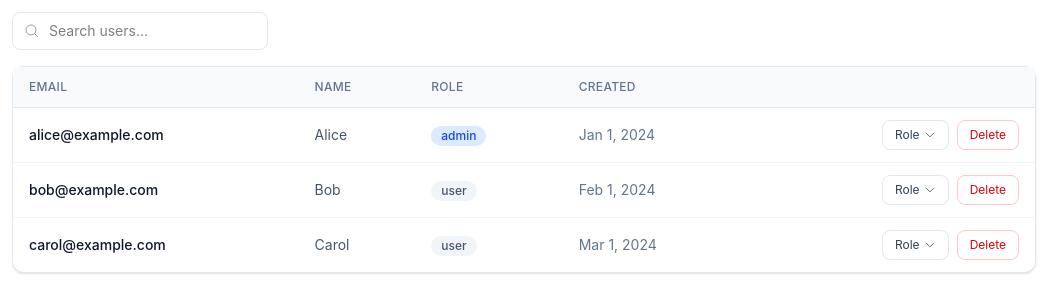
Test: UsersView › search filters users by email
Type "alice" into the search field with placeholder "Search users...".
click(140, 31); type("alice")  # box [12,12,268,50]
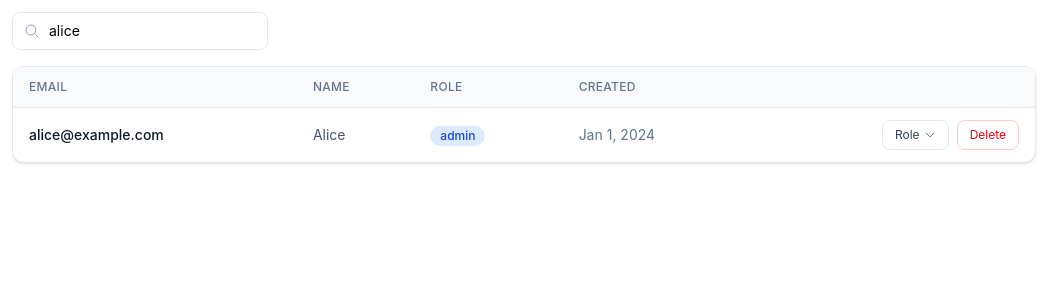
Expected: the text "alice@example.com" is shown, [13,108,297,162]
Result: the text "bob@example.com" is gone
